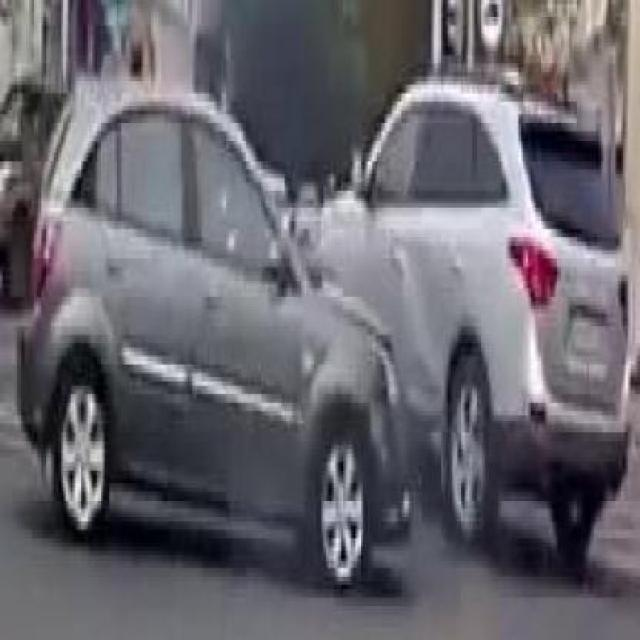accident: (17, 8, 640, 560)
